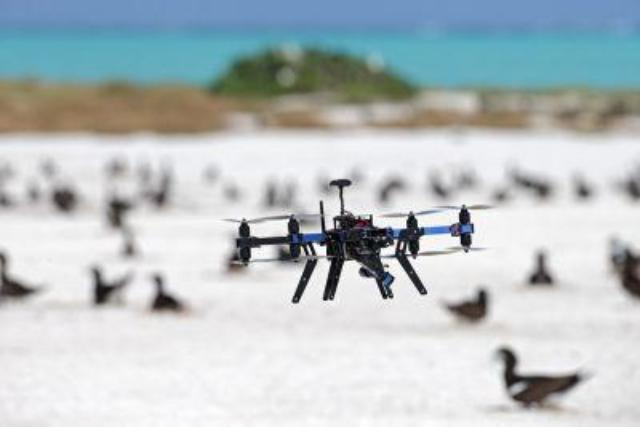drone: (202, 164, 502, 330)
